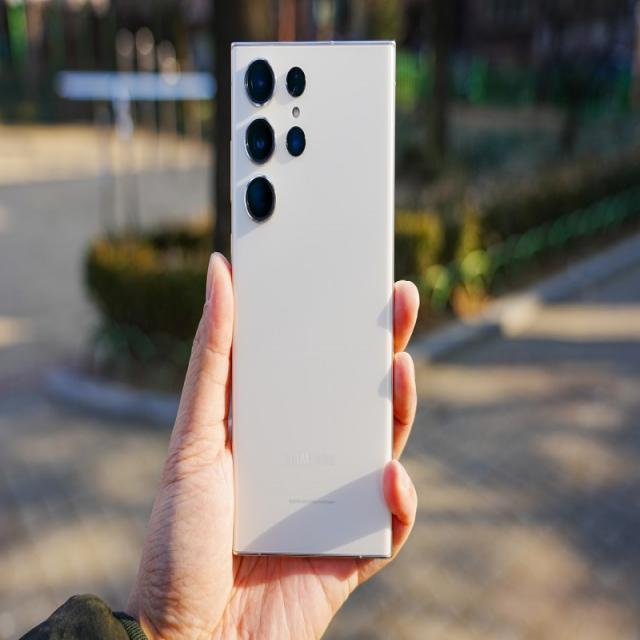phone: (227, 35, 398, 562)
